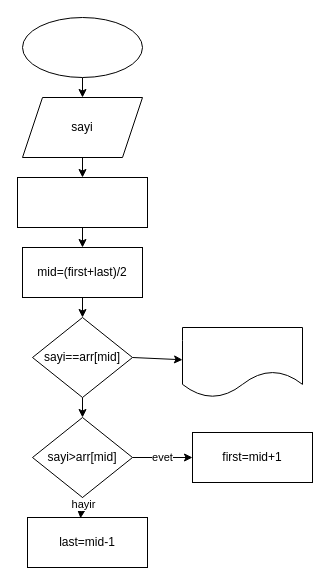
Image size: 330x585. Some labels were removed from this diagram. Each missing label, with the centre of its shape:
arr[n] first=0 last=len(arr): point 82,202
basla: point 82,47
mid: point 242,362
